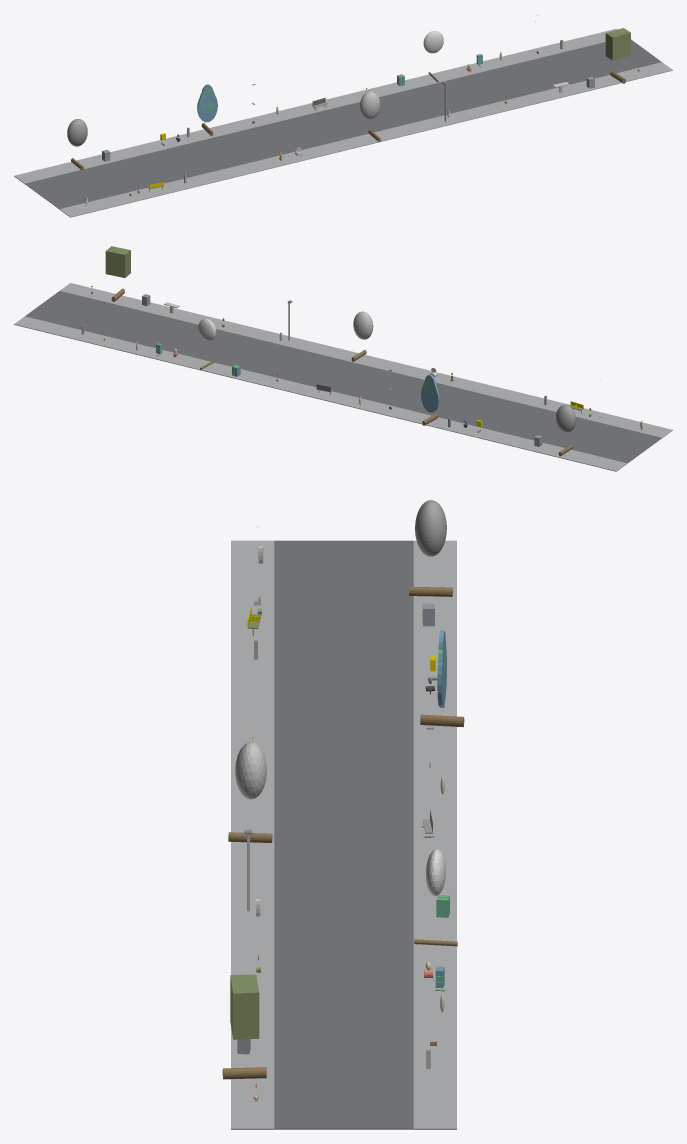
3 renders of one model, top to bottom at view 1: azimuth 30°, elevation 25°; view 2: azimuth 150°, elevation 25°; view 3: azimuth 270°, elevation 25°, orthographic. The views are drawn at different scales.
Parts seen in each view (by area): view 1: road_slab, sidewalk_left, sidewalk_right, inst_0016, inst_0013, inst_0014, inst_0012, inst_0015; view 2: road_slab, sidewalk_right, sidewalk_left, inst_0016, inst_0013, inst_0014, inst_0012, inst_0015; view 3: road_slab, sidewalk_right, sidewalk_left, inst_0016, inst_0012, inst_0014, inst_0013, inst_0015.
Boxes of the visible parts, x1=… form: road_slab: x1=25, y1=39, x2=661, y2=209; sidewalk_left: x1=59, y1=62, x2=672, y2=217; sidewalk_right: x1=14, y1=28, x2=617, y2=183; inst_0016: x1=605, y1=28, x2=630, y2=83; inst_0013: x1=197, y1=84, x2=217, y2=136; inst_0014: x1=359, y1=91, x2=380, y2=142; inst_0012: x1=67, y1=119, x2=87, y2=170; inst_0015: x1=423, y1=31, x2=443, y2=82; road_slab: x1=25, y1=291, x2=661, y2=463; sidewalk_right: x1=14, y1=316, x2=627, y2=471; sidewalk_left: x1=60, y1=283, x2=672, y2=438; inst_0016: x1=105, y1=246, x2=130, y2=301; inst_0013: x1=421, y1=374, x2=439, y2=425; inst_0014: x1=351, y1=311, x2=373, y2=361; inst_0012: x1=556, y1=404, x2=575, y2=456; inst_0015: x1=198, y1=318, x2=216, y2=369; road_slab: x1=274, y1=540, x2=413, y2=1129; sidewalk_right: x1=413, y1=540, x2=456, y2=1129; sidewalk_left: x1=231, y1=540, x2=274, y2=1129; inst_0016: x1=222, y1=974, x2=266, y2=1079; inst_0012: x1=409, y1=500, x2=452, y2=596; inst_0014: x1=228, y1=742, x2=272, y2=842; inst_0013: x1=420, y1=630, x2=464, y2=727; inst_0015: x1=414, y1=849, x2=457, y2=946.
Bounding box in the file's own units: 80 × 6.08 × 13.88.
